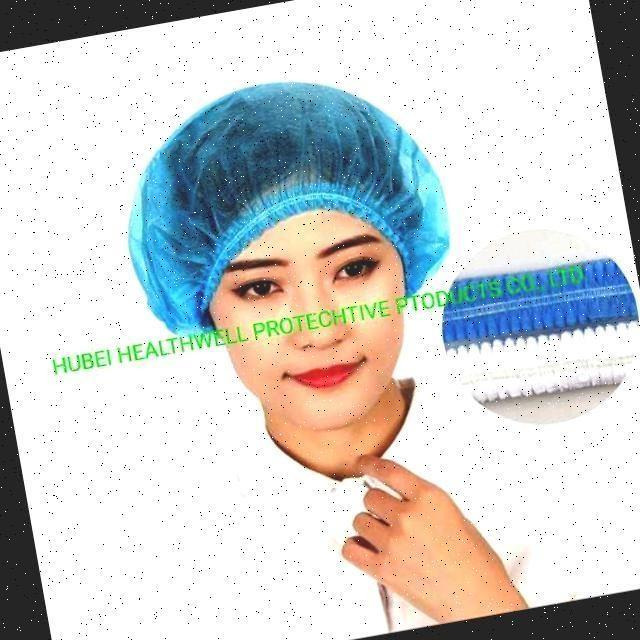no_apron: (357, 456, 514, 618)
no_hairnet: (256, 302, 396, 392)
